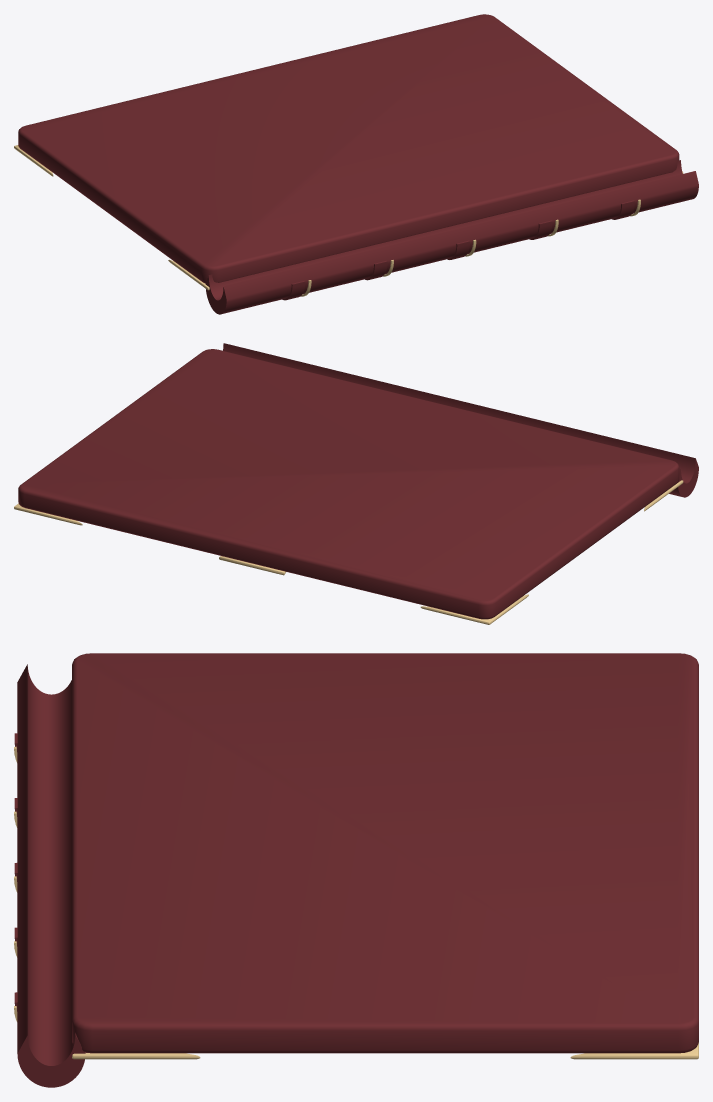
Rendered from SM_Grimoire_BackCover.fbx.
The picture shows the model from 3 angles, top to bottom: view 1: azimuth 30°, elevation 25°; view 2: azimuth 150°, elevation 25°; view 3: azimuth 270°, elevation 25°; orthographic projection. The views are drawn at different scales.
Visible parts, largest first — view 1: SM_Grimoire_BackCover; view 2: SM_Grimoire_BackCover; view 3: SM_Grimoire_BackCover.
Boxes of the visible parts, box(x1,y1,x2,y2) form: SM_Grimoire_BackCover: box(14, 14, 698, 314); SM_Grimoire_BackCover: box(14, 343, 698, 624); SM_Grimoire_BackCover: box(14, 653, 698, 1087).
Bounding box in the file's own units: 26 × 2.15 × 20.1.
